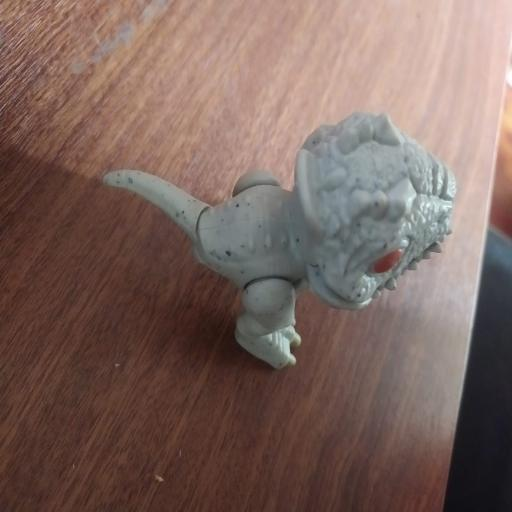Dinosaurio: (95, 102, 464, 378)
